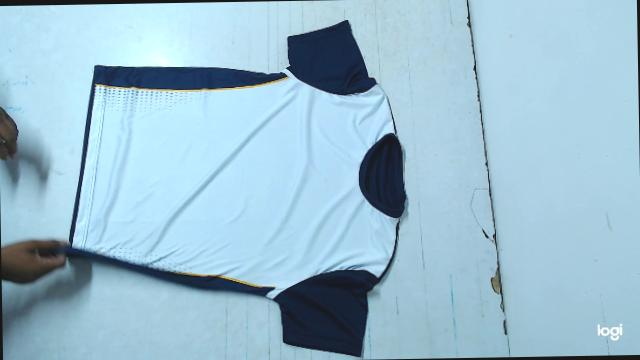new-garment: (69, 21, 406, 355)
